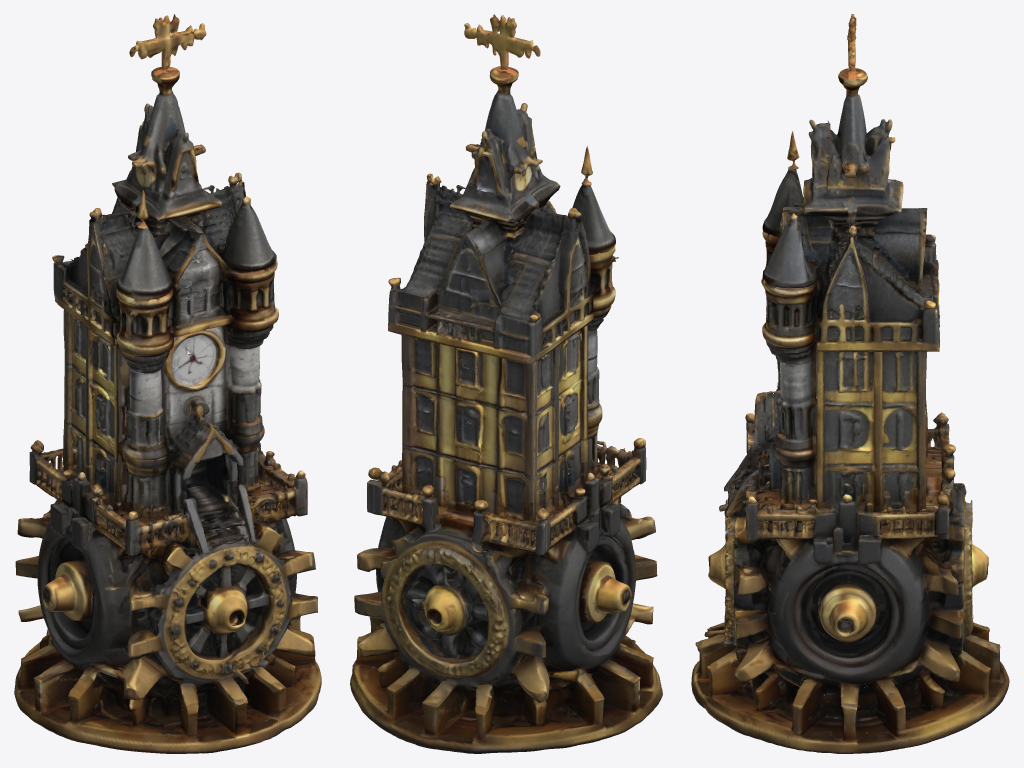
File: rook.glb
3 renders of one model, left to right at view 1: azimuth 30°, elevation 25°; view 2: azimuth 150°, elevation 25°; view 3: azimuth 270°, elevation 25°, orthographic.
Parts seen in each view (by area): view 1: Object_5, Object_4, Object_6; view 2: Object_4, Object_5, Object_6; view 3: Object_4, Object_5, Object_6.
Boxes of the visible parts, bbox=[...] form: Object_5: bbox=[15, 25, 315, 753]; Object_4: bbox=[14, 61, 321, 753]; Object_6: bbox=[15, 14, 320, 752]; Object_4: bbox=[350, 61, 662, 753]; Object_5: bbox=[355, 24, 662, 753]; Object_6: bbox=[354, 14, 661, 752]; Object_4: bbox=[697, 64, 1008, 753]; Object_5: bbox=[691, 29, 1009, 753]; Object_6: bbox=[697, 14, 1006, 752].
Size of the model in its own units: 0.8487 by 2 by 0.8592.
Materials: 1 (1 with a texture image).
